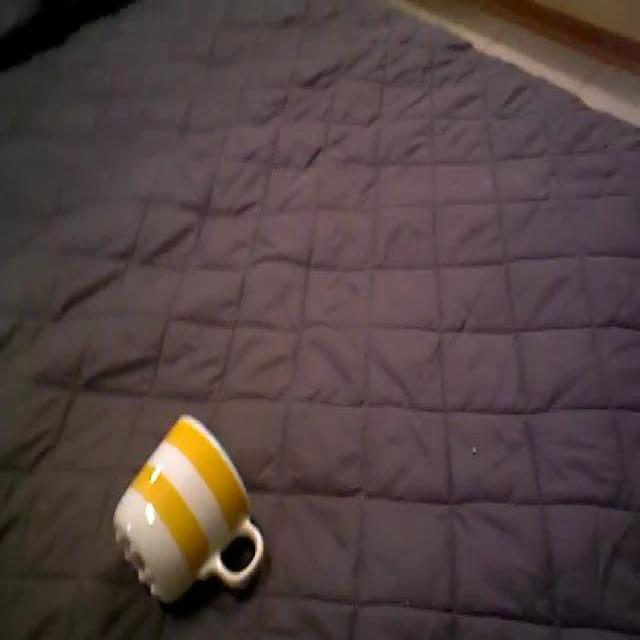cup: (99, 402, 292, 607)
